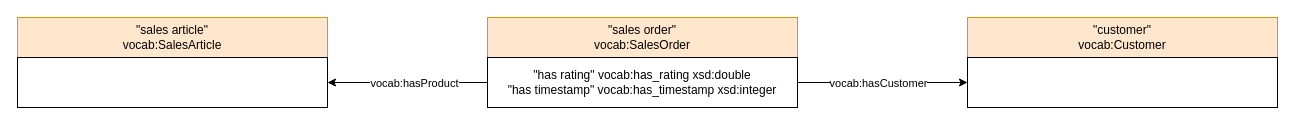
The diagram is 1295 pixels wide and 125 high, and some of its shapes have lost their labels. The shapes that lost their labels are listed below. From the top down, each one's centre as x and y in pixels, then its label:
[172,82]: "has product ID" vocab:has_product_id xsd:string
[1122,82]: "has customer ID" vocab:has_customer_id xds:string
